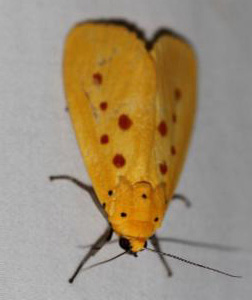Agape chloropyga: (48, 15, 242, 284)
moth: (48, 14, 242, 283)
